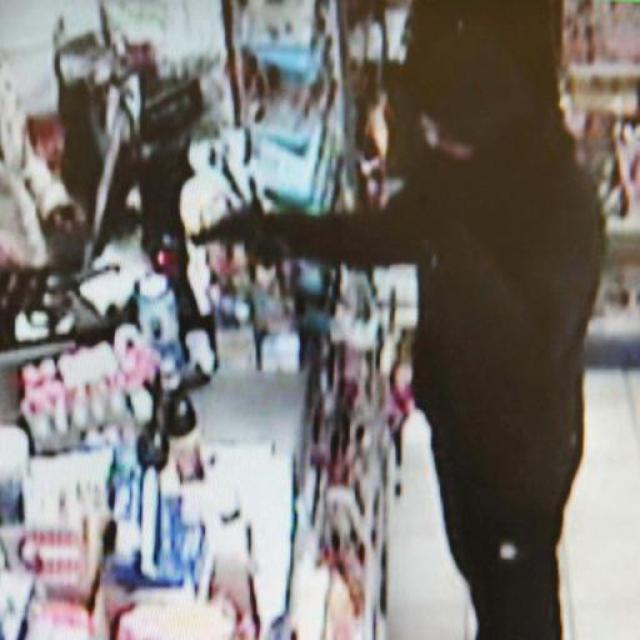pistol: (186, 196, 266, 284)
